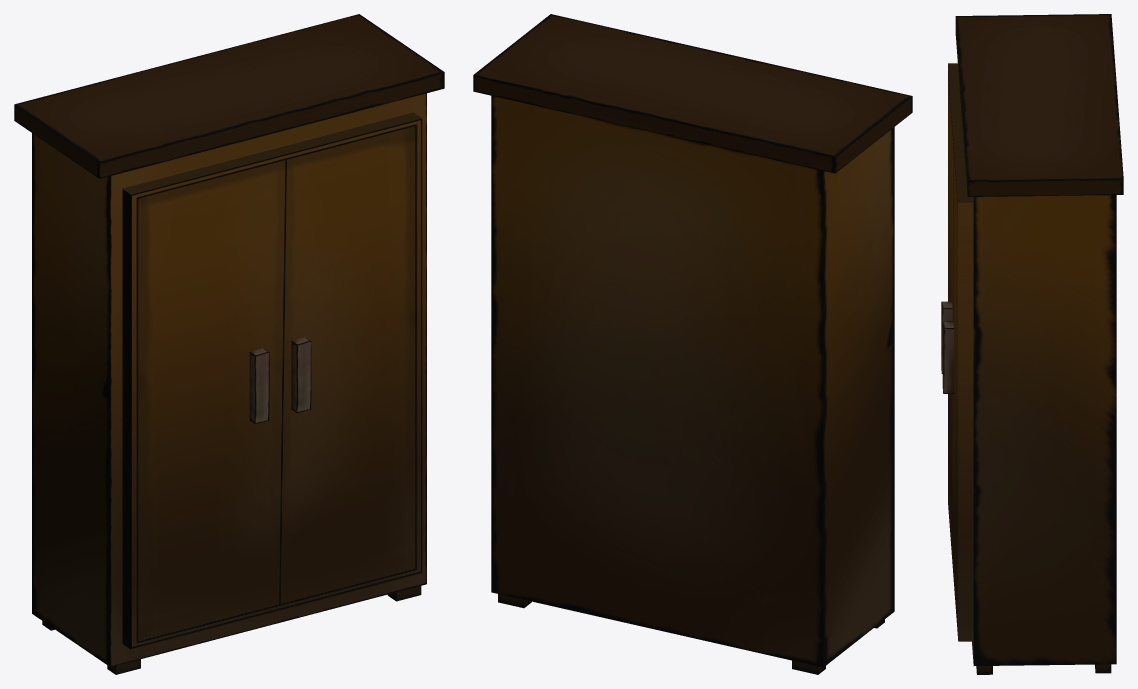
3 renders of one model, left to right at view 1: azimuth 30°, elevation 25°; view 2: azimuth 150°, elevation 25°; view 3: azimuth 270°, elevation 25°, orthographic. The views are drawn at different scales.
Visible parts, largest first — view 1: armario; view 2: armario; view 3: armario.
Part boxes in pixels (x1,y1,x2,y2): armario: (14, 14, 444, 674); armario: (473, 14, 912, 674); armario: (941, 14, 1123, 674).
Bounding box in the file's own units: 0.3806 × 0.5331 × 0.1755.
Materials: 1 (1 with a texture image).
